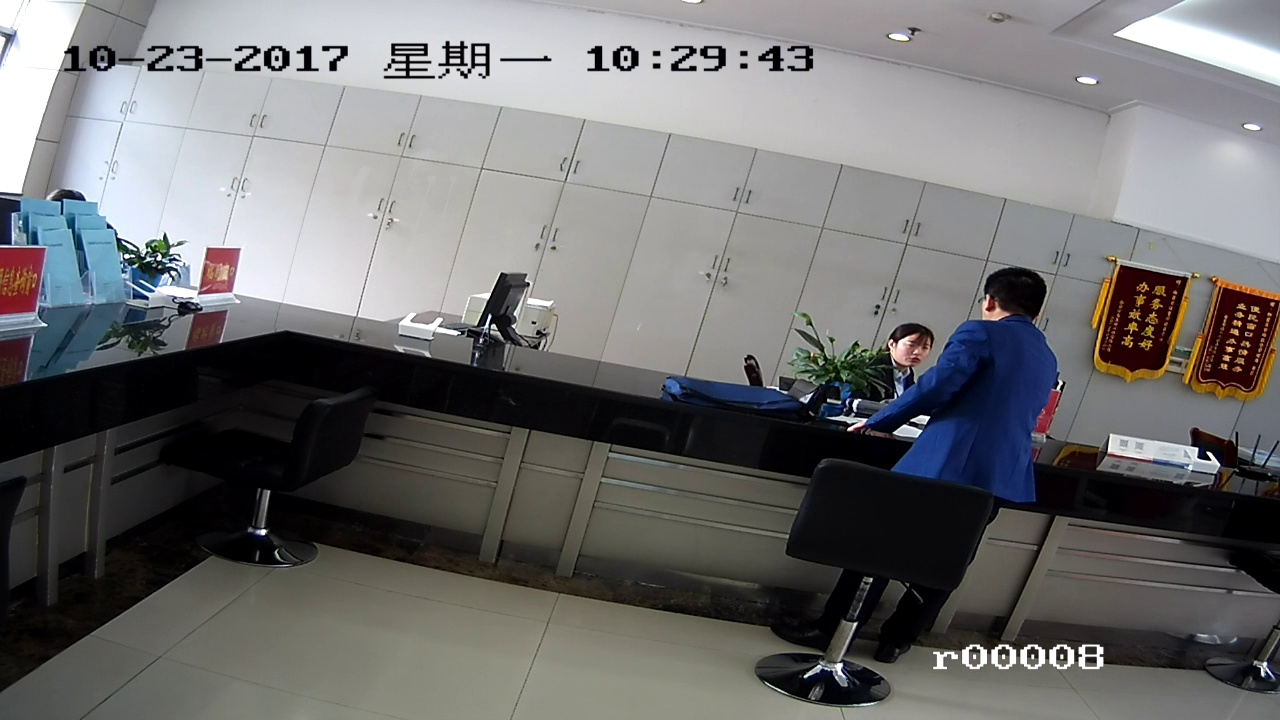chair: (761, 469, 961, 698), (177, 385, 387, 566)
monitor: (488, 265, 538, 354)
person: (935, 272, 1041, 565), (867, 318, 942, 384)
pot: (807, 335, 874, 412)
